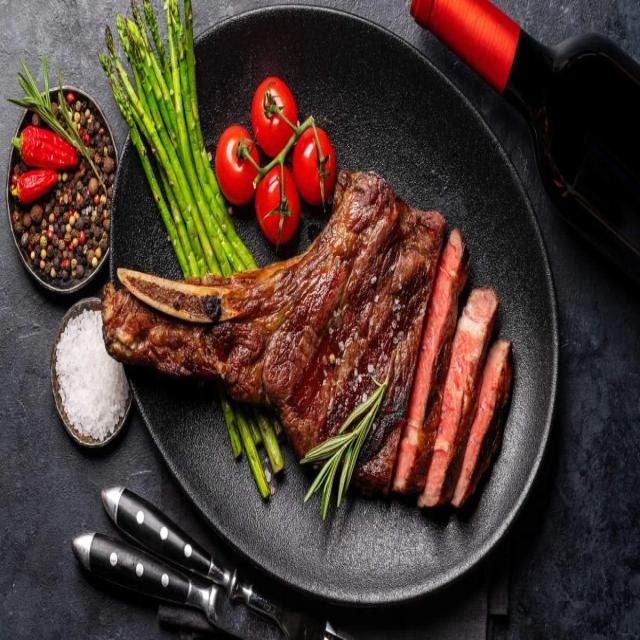carne de res: (102, 148, 521, 528)
